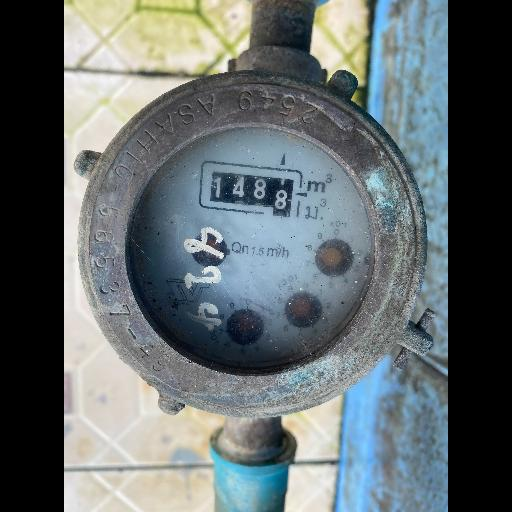1: (210, 172, 227, 203)
4: (229, 174, 249, 205)
8: (271, 177, 292, 217), (249, 176, 269, 207)
border_water_meter_number: (197, 160, 310, 218)
